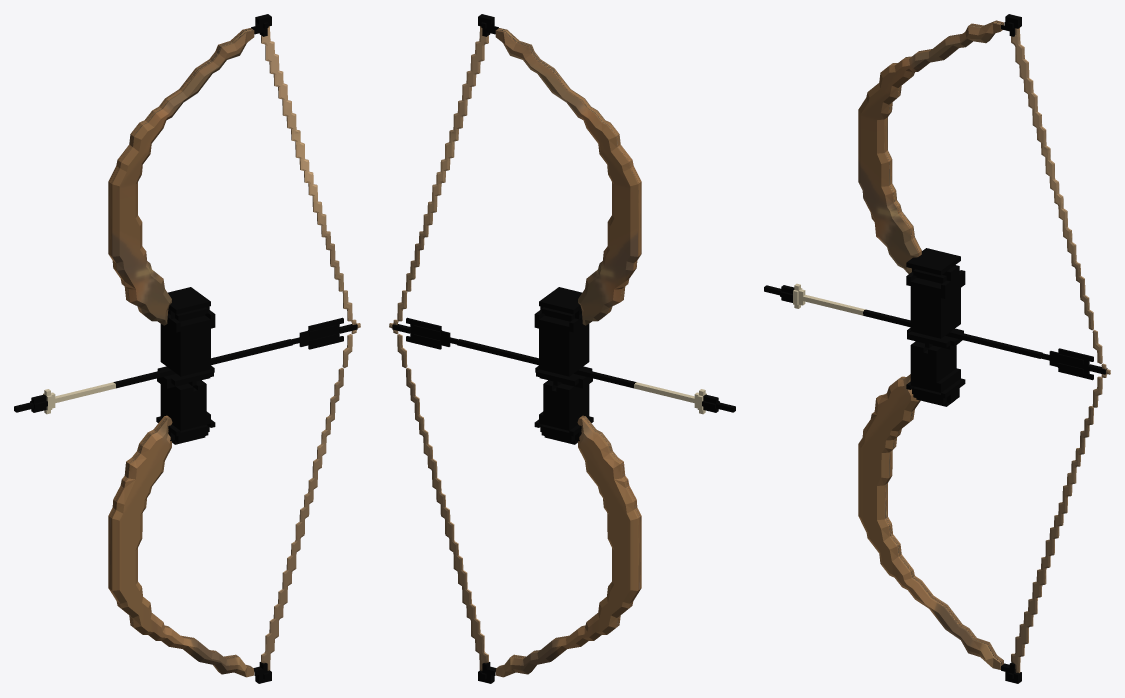
File: bow_pulling_2.obj
3 views of the same model, side by side, from view 1: azimuth 30°, elevation 25°; view 2: azimuth 150°, elevation 25°; view 3: azimuth 330°, elevation 25° (orthographic).
Visible parts, largest first — view 1: bow_pulling_2; view 2: bow_pulling_2; view 3: bow_pulling_2.
Boxes of the visible parts, x1=… form: bow_pulling_2: x1=14, y1=14, x2=360, y2=683; bow_pulling_2: x1=389, y1=14, x2=735, y2=683; bow_pulling_2: x1=764, y1=14, x2=1110, y2=683.
Size of the model in its own units: 0.833 by 1.53 by 0.0833.
